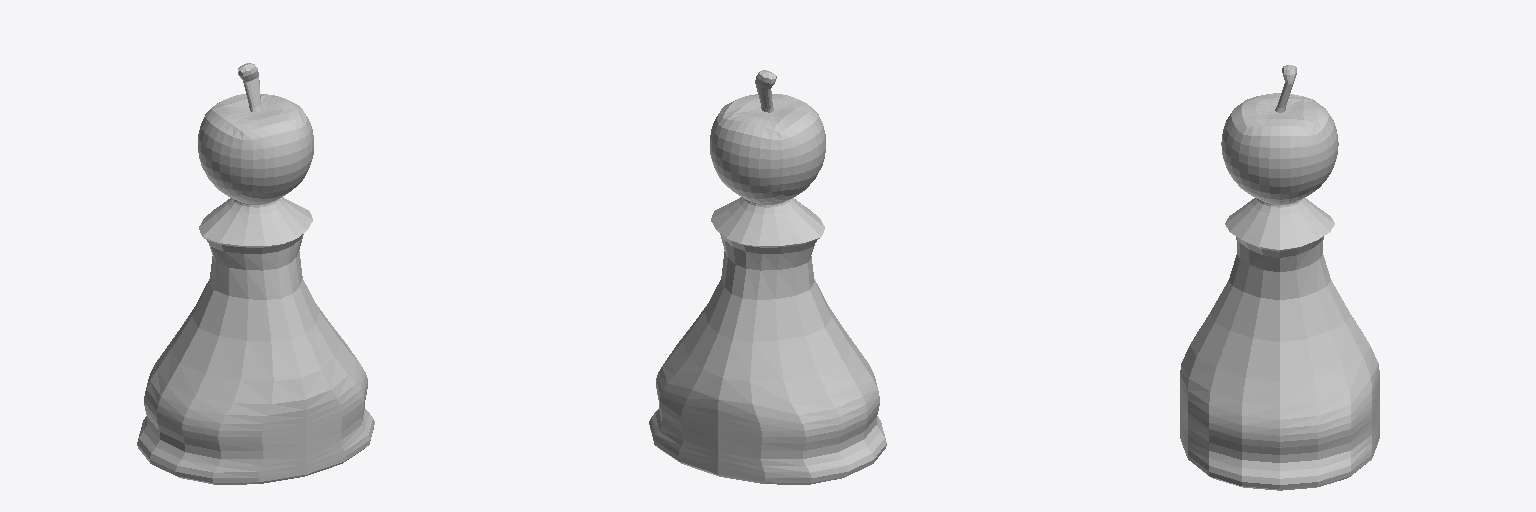
File: CherryPawnPiece.obj
3 views of the same model, side by side, from view 1: azimuth 30°, elevation 25°; view 2: azimuth 150°, elevation 25°; view 3: azimuth 270°, elevation 25° (orthographic).
Visible parts, largest first — view 1: Roundcube; view 2: Roundcube; view 3: Roundcube.
Boxes of the visible parts, box(x1,y1,x2,y2) form: Roundcube: box(137, 63, 374, 484); Roundcube: box(649, 70, 886, 484); Roundcube: box(1180, 65, 1379, 490).
Size of the model in its own units: 0.599 by 1.01 by 0.4872.